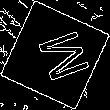M_W: (23, 25, 87, 85)
